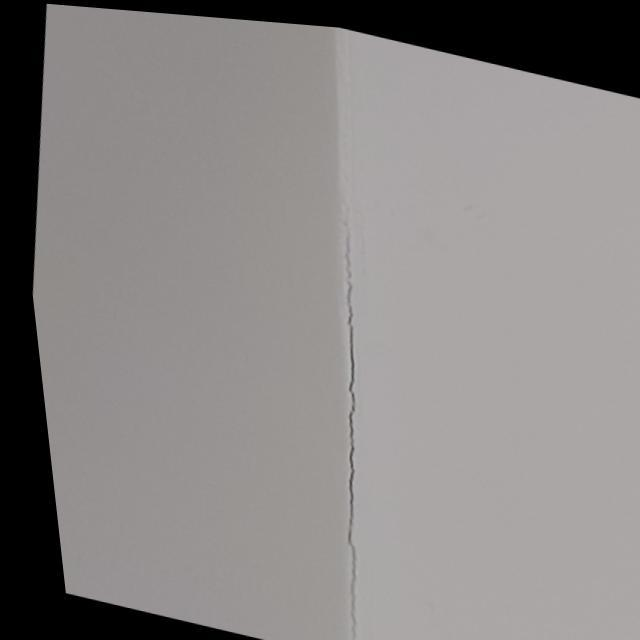Crack: (334, 234, 365, 636)
